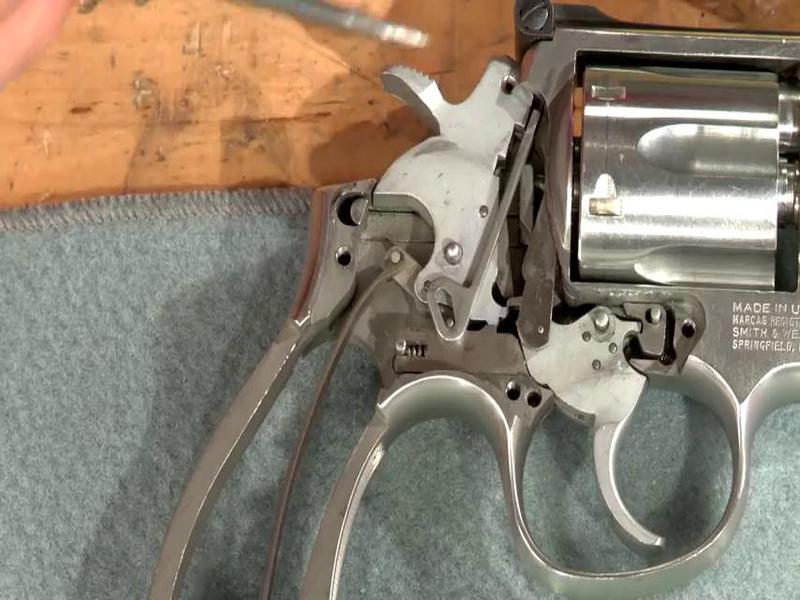Revolver: (125, 32, 800, 578)
